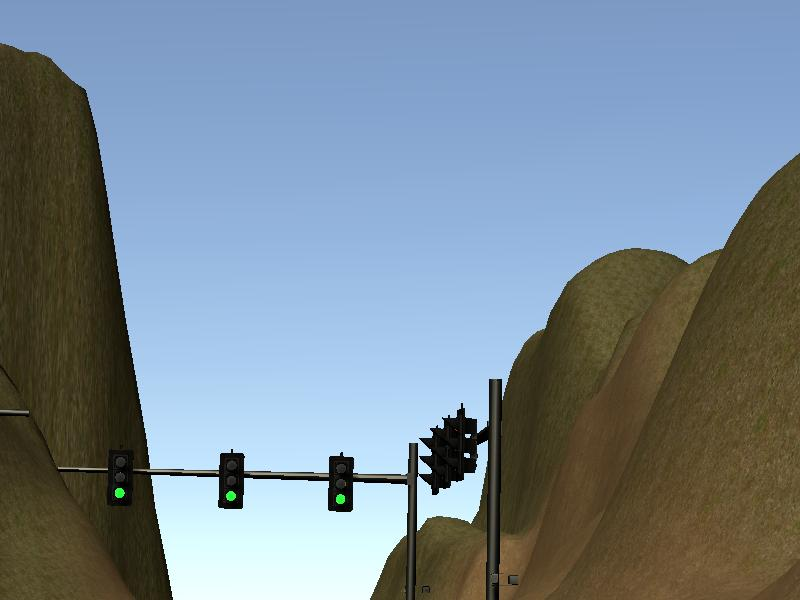Green: (220, 451, 245, 509), (108, 450, 133, 504), (330, 454, 352, 512)
